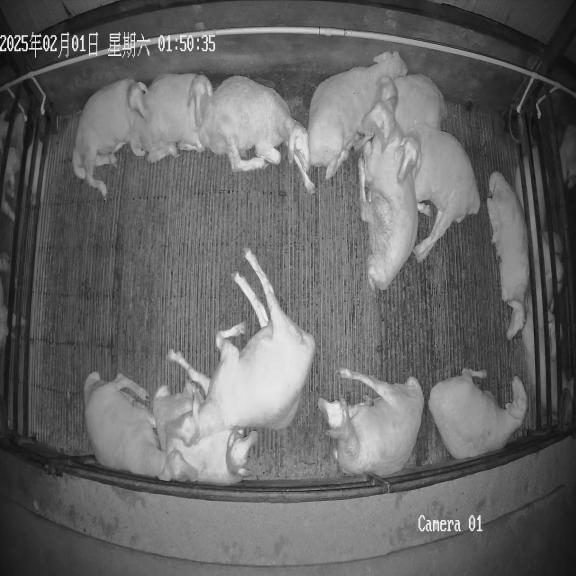lying: (166, 249, 315, 446), (198, 76, 314, 192), (307, 52, 407, 178), (84, 372, 198, 480), (396, 123, 480, 262), (318, 368, 424, 478), (358, 102, 418, 290), (153, 381, 258, 484), (72, 79, 148, 198), (428, 369, 527, 460), (130, 73, 213, 163), (486, 172, 529, 340), (374, 74, 446, 132)
